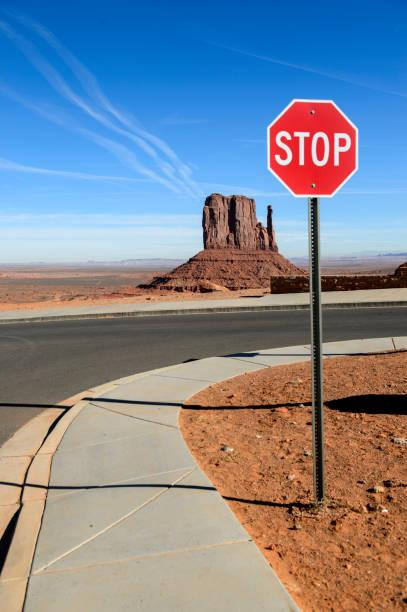Pole: (305, 197, 326, 496)
Sign: (266, 98, 359, 199)
